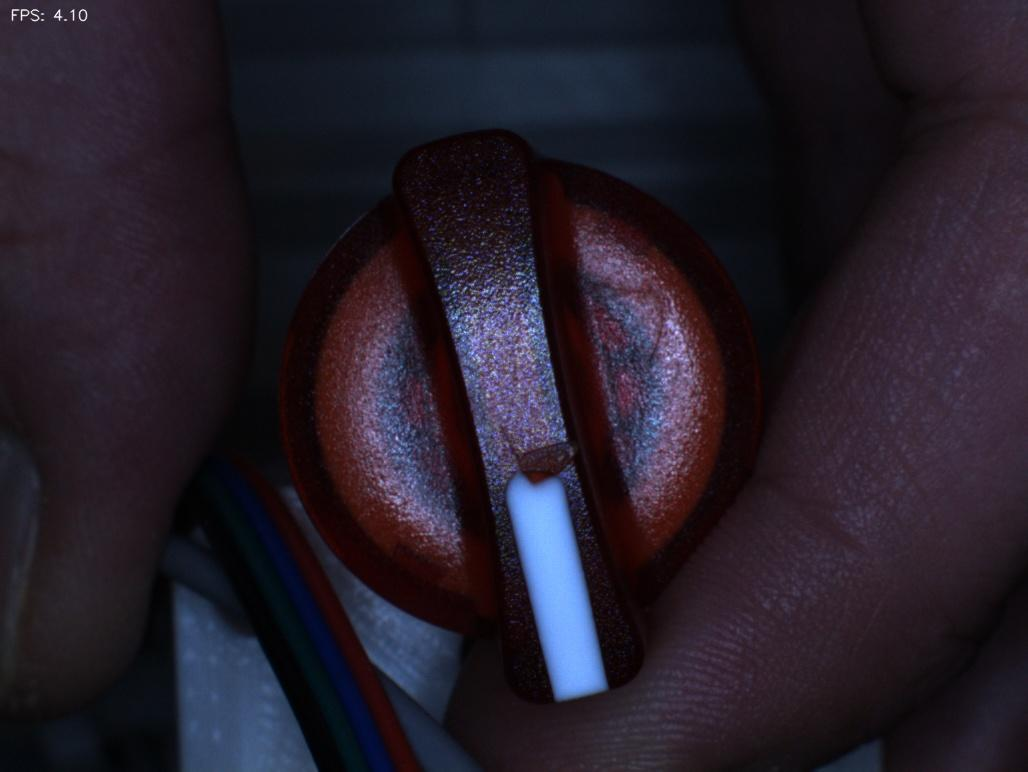Choc: (487, 415, 598, 506)
